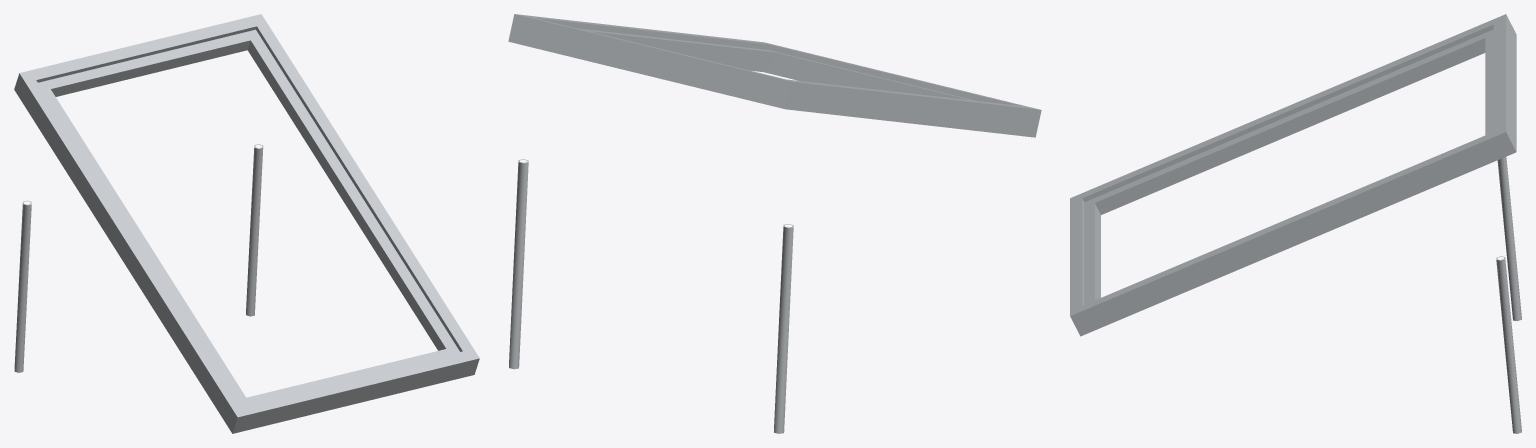
The model's file is kd_stage_135ded_4_59.glb.
3 renders of one model, left to right at view 1: azimuth 30°, elevation 25°; view 2: azimuth 150°, elevation 25°; view 3: azimuth 270°, elevation 25°, orthographic. The views are drawn at different scales.
Visible parts, largest first — view 1: kd_stage_135ded_4_59; view 2: kd_stage_135ded_4_59; view 3: kd_stage_135ded_4_59.
Boxes of the visible parts, x1,y1,x2,y2 form: kd_stage_135ded_4_59: [14, 14, 479, 433]; kd_stage_135ded_4_59: [508, 14, 1041, 433]; kd_stage_135ded_4_59: [1070, 14, 1521, 433].
Size of the model in its own units: 1.13 by 1.35 by 1.83.
Materials: 1 (1 with a texture image).
